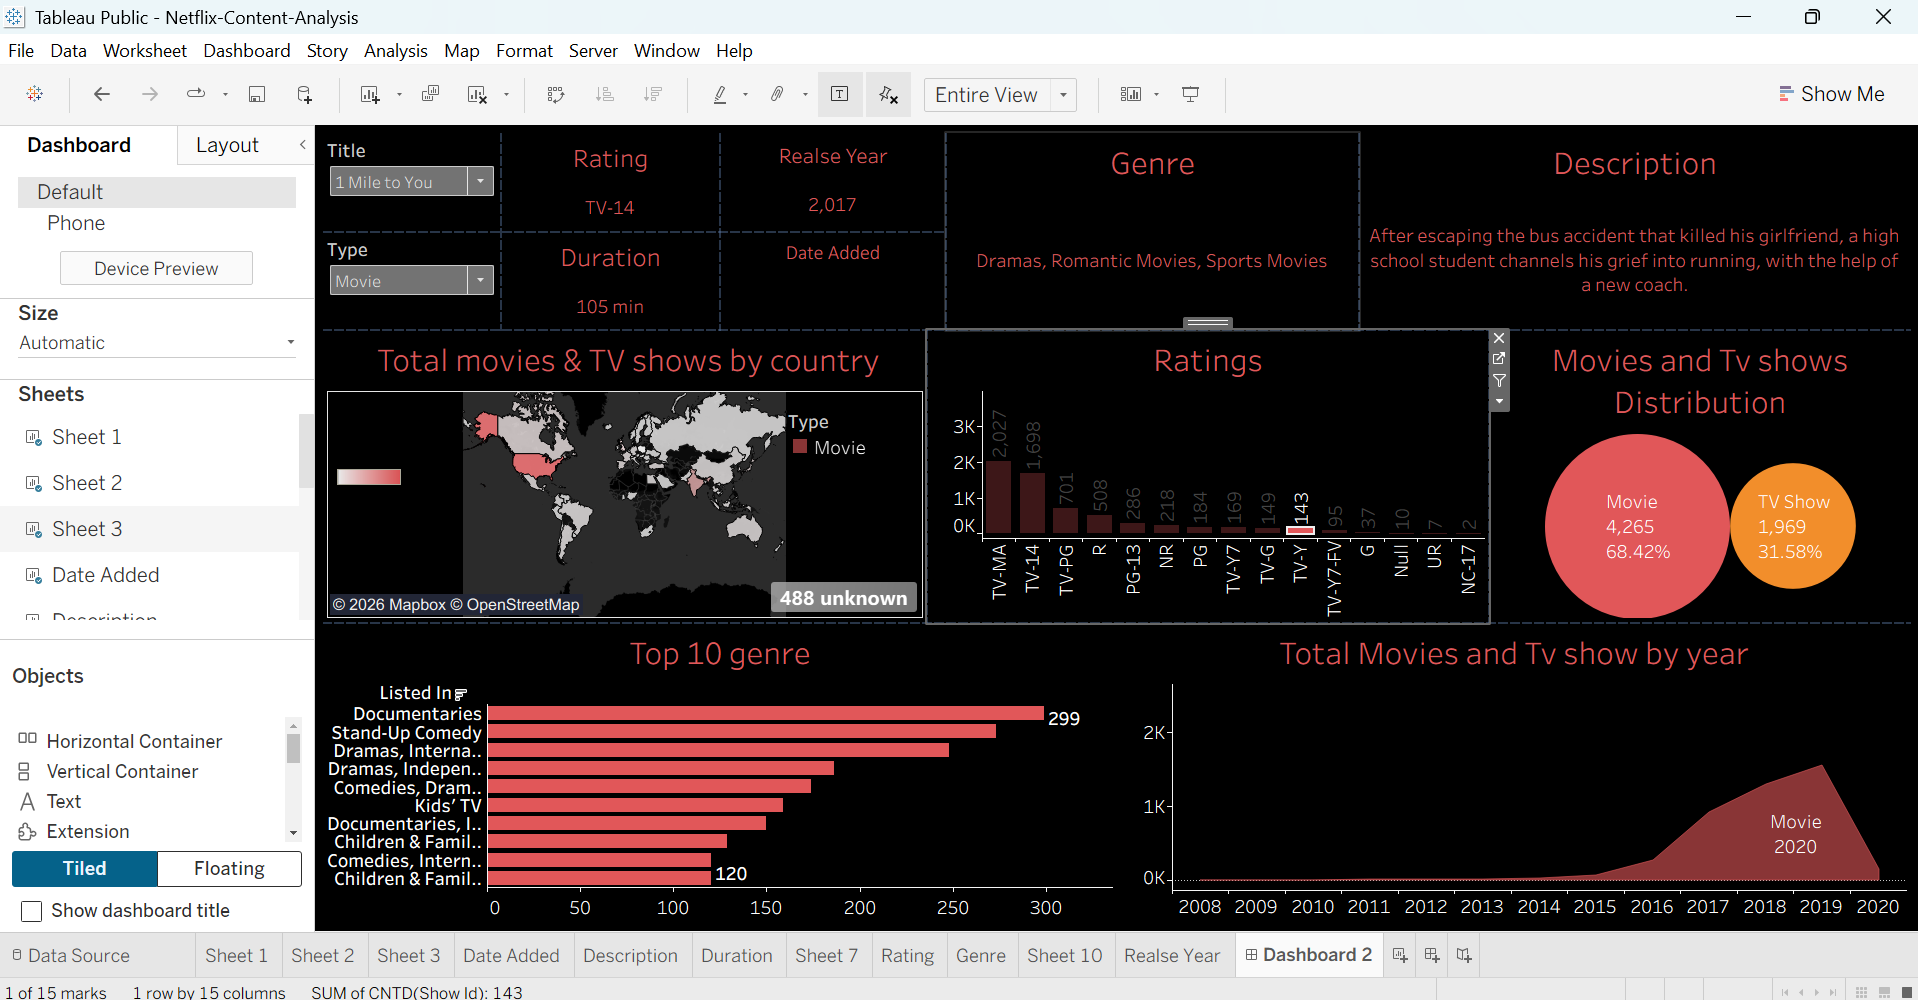

The dashboard page shown, as its layout file describes it:
{"tool":"tableau","page":{"name":"Dashboard 2","canvas":[1000,1000],"units":"permille","ordinal":0},"visuals":[{"type":"filter","title":"Description","param":"[federated.0t0eltq1d7vmnp11o7hzg0jzmcex].[none:title:nk]","box":[5,9.9,110.9,122.5]},{"type":"worksheet","title":"Rating","mark":"Automatic","box":[115.9,9.9,136.6,122.5]},{"type":"worksheet","title":"Realse Year","mark":"Automatic","box":[252.5,9.9,140.9,122.5]},{"type":"worksheet","title":"Genre","mark":"Automatic","box":[393.4,9.9,257.5,245]},{"type":"worksheet","title":"Description","mark":"Automatic","box":[650.9,9.9,344.2,245]},{"type":"filter","title":"Description","param":"[federated.0t0eltq1d7vmnp11o7hzg0jzmcex].[none:type:nk]","box":[5,132.4,110.9,122.5]},{"type":"worksheet","title":"Duration","mark":"Automatic","box":[115.9,132.4,136.6,122.5]},{"type":"worksheet","title":"Date Added","mark":"Automatic","box":[252.5,132.4,140.9,122.5]},{"type":"worksheet","title":"Sheet 10","mark":"Automatic","box":[5,255,376.5,362.9]},{"type":"worksheet","title":"Sheet 3","mark":"Automatic","rows":["show_id"],"cols":["rating"],"box":[381.5,255,350.4,362.9]},{"type":"worksheet","title":"Sheet 2","mark":"Circle","box":[731.9,255,263.1,362.9]},{"type":"legend","title":"Sheet 1","param":"[federated.0t0eltq1d7vmnp11o7hzg0jzmcex].[none:type:nk]","box":[294.9,351.1,87.3,94.3]},{"type":"legend","title":"Sheet 10","param":"[federated.0t0eltq1d7vmnp11o7hzg0jzmcex].[ctd:show_id:qk]","box":[11.2,389.6,44.9,124.1]},{"type":"worksheet","title":"Sheet 7","mark":"Automatic","rows":["listed_in"],"cols":["show_id"],"box":[5,617.9,495,372.2]},{"type":"worksheet","title":"Sheet 1","mark":"Area","rows":["show_id"],"cols":["date_added"],"box":[500,617.9,495,372.2]}]}

Visuals, with their boxes on the dashboard's canvas, which has no fixed pixel size, in thousandths of its width and height (x1, y1, x2, y2). These are canvas units, not pixel positions in the 1918x1000 screenshot, which may show the page scaled, cropped or inside an application window:
"Description" filter: box=[5, 10, 116, 132]
"Rating" worksheet: box=[116, 10, 252, 132]
"Realse Year" worksheet: box=[252, 10, 393, 132]
"Genre" worksheet: box=[393, 10, 651, 255]
"Description" worksheet: box=[651, 10, 995, 255]
"Description" filter: box=[5, 132, 116, 255]
"Duration" worksheet: box=[116, 132, 252, 255]
"Date Added" worksheet: box=[252, 132, 393, 255]
"Sheet 10" worksheet: box=[5, 255, 382, 618]
"Sheet 3" worksheet: box=[382, 255, 732, 618]
"Sheet 2" worksheet (Circle marks): box=[732, 255, 995, 618]
"Sheet 1" legend: box=[295, 351, 382, 445]
"Sheet 10" legend: box=[11, 390, 56, 514]
"Sheet 7" worksheet: box=[5, 618, 500, 990]
"Sheet 1" worksheet (Area marks): box=[500, 618, 995, 990]
